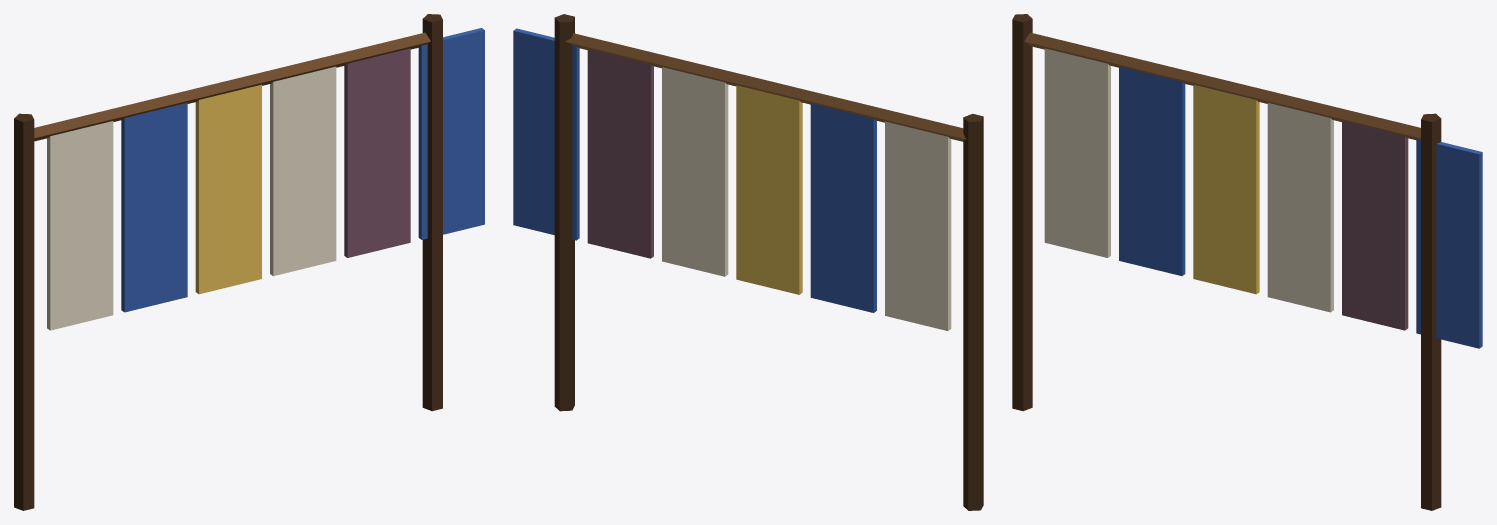
Rendered from a3k_cloth_rack.glb.
3 renders of one model, left to right at view 1: azimuth 30°, elevation 25°; view 2: azimuth 150°, elevation 25°; view 3: azimuth 330°, elevation 25°, orthographic.
Parts seen in each view (by area): view 1: a3k_cloth_rack; view 2: a3k_cloth_rack; view 3: a3k_cloth_rack.
Part boxes in pixels (x1,y1,x2,y2): a3k_cloth_rack: (14,14,484,510); a3k_cloth_rack: (513,14,983,510); a3k_cloth_rack: (1012,14,1482,510).
Size of the model in its own units: 2.52 by 2 by 0.0905.
